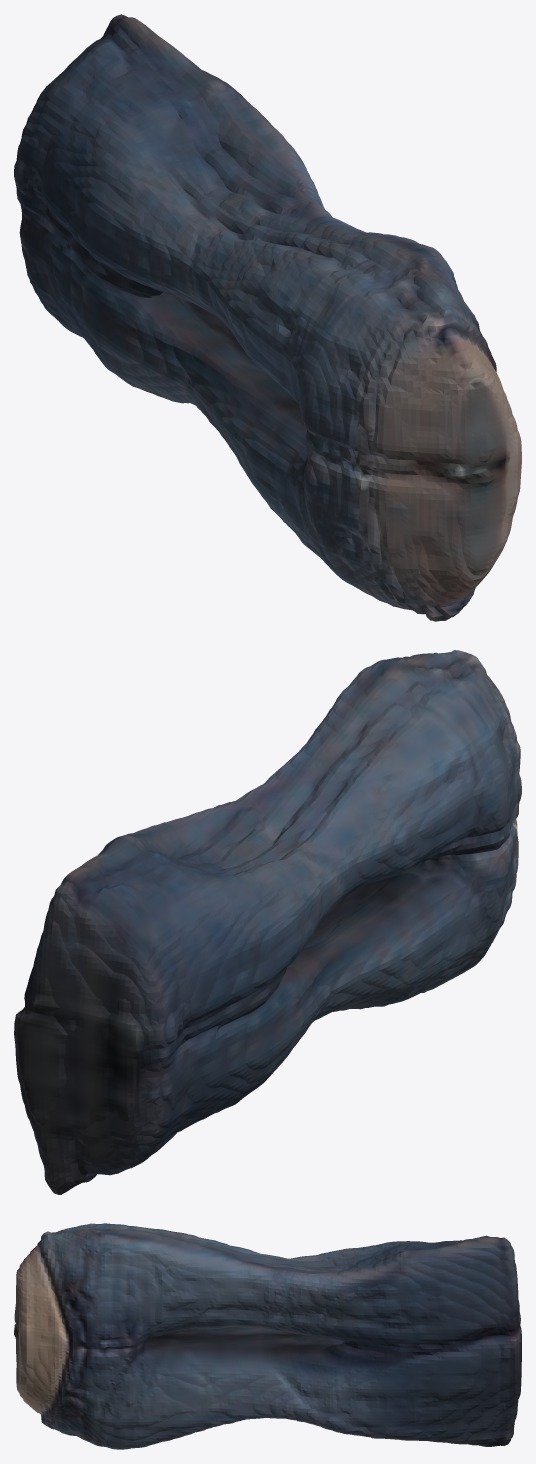
3 views of the same model, one above another, from view 1: azimuth 30°, elevation 25°; view 2: azimuth 150°, elevation 25°; view 3: azimuth 270°, elevation 25° (orthographic). The views are drawn at different scales.
Size of the model in its own units: 0.2668 by 0.448 by 0.9723.
